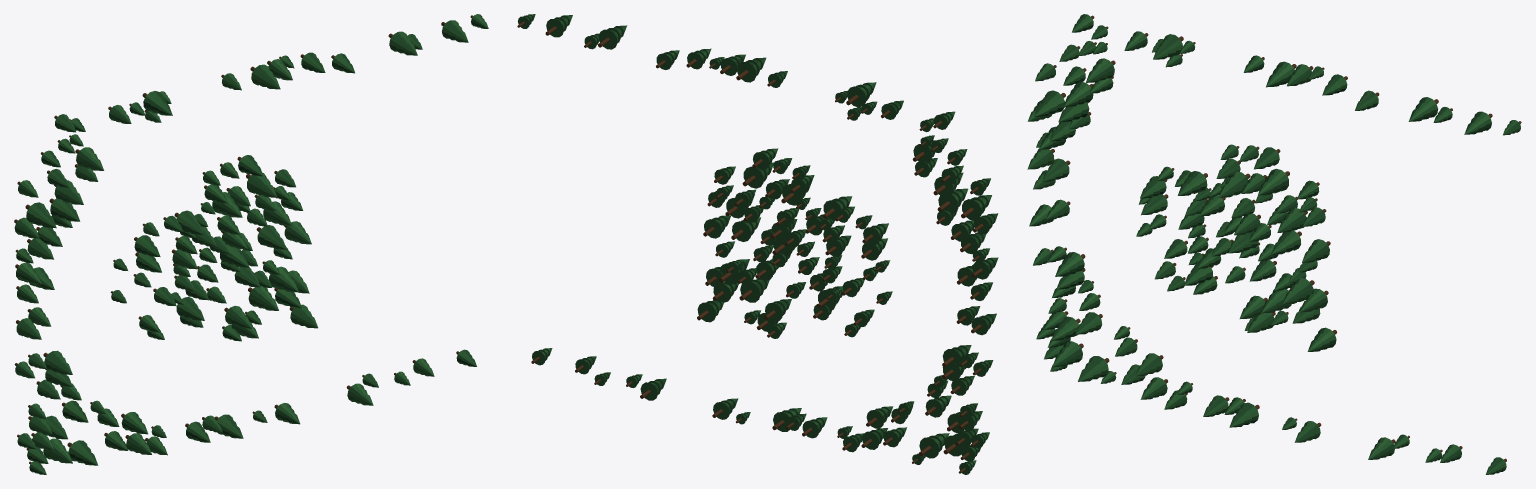
The model's file is forest_clusters.obj.
The picture shows the model from 3 angles, left to right: view 1: azimuth 30°, elevation 25°; view 2: azimuth 150°, elevation 25°; view 3: azimuth 330°, elevation 25°; orthographic projection. The views are drawn at different scales.
Parts seen in each view (by area): view 1: forest_clusters; view 2: forest_clusters; view 3: forest_clusters.
Boxes of the visible parts, x1,y1,x2,y2 form: forest_clusters: (14,14,488,474); forest_clusters: (517,14,998,474); forest_clusters: (1027,14,1521,474).
Size of the model in its own units: 76.01 by 56.19 by 9.72.
